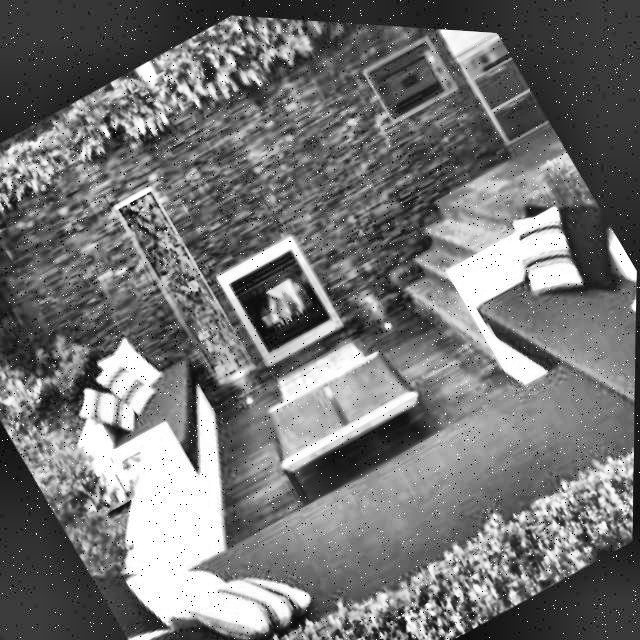Fire: (249, 259, 317, 332)
